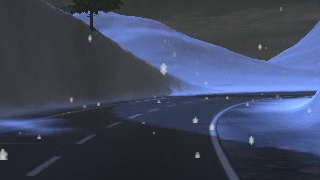Lane: (0, 91, 317, 179)
